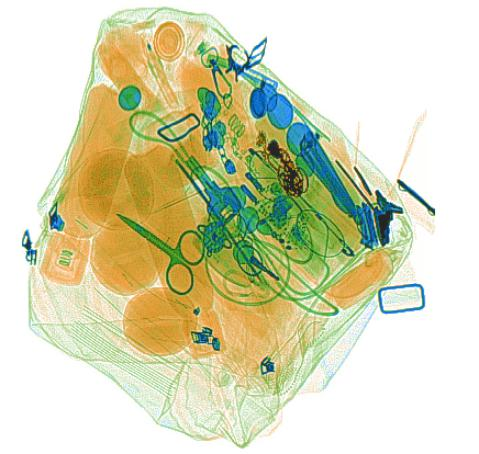plasticBottleWithaNozzle: (40, 83, 141, 290)
scissors: (113, 211, 209, 295)
